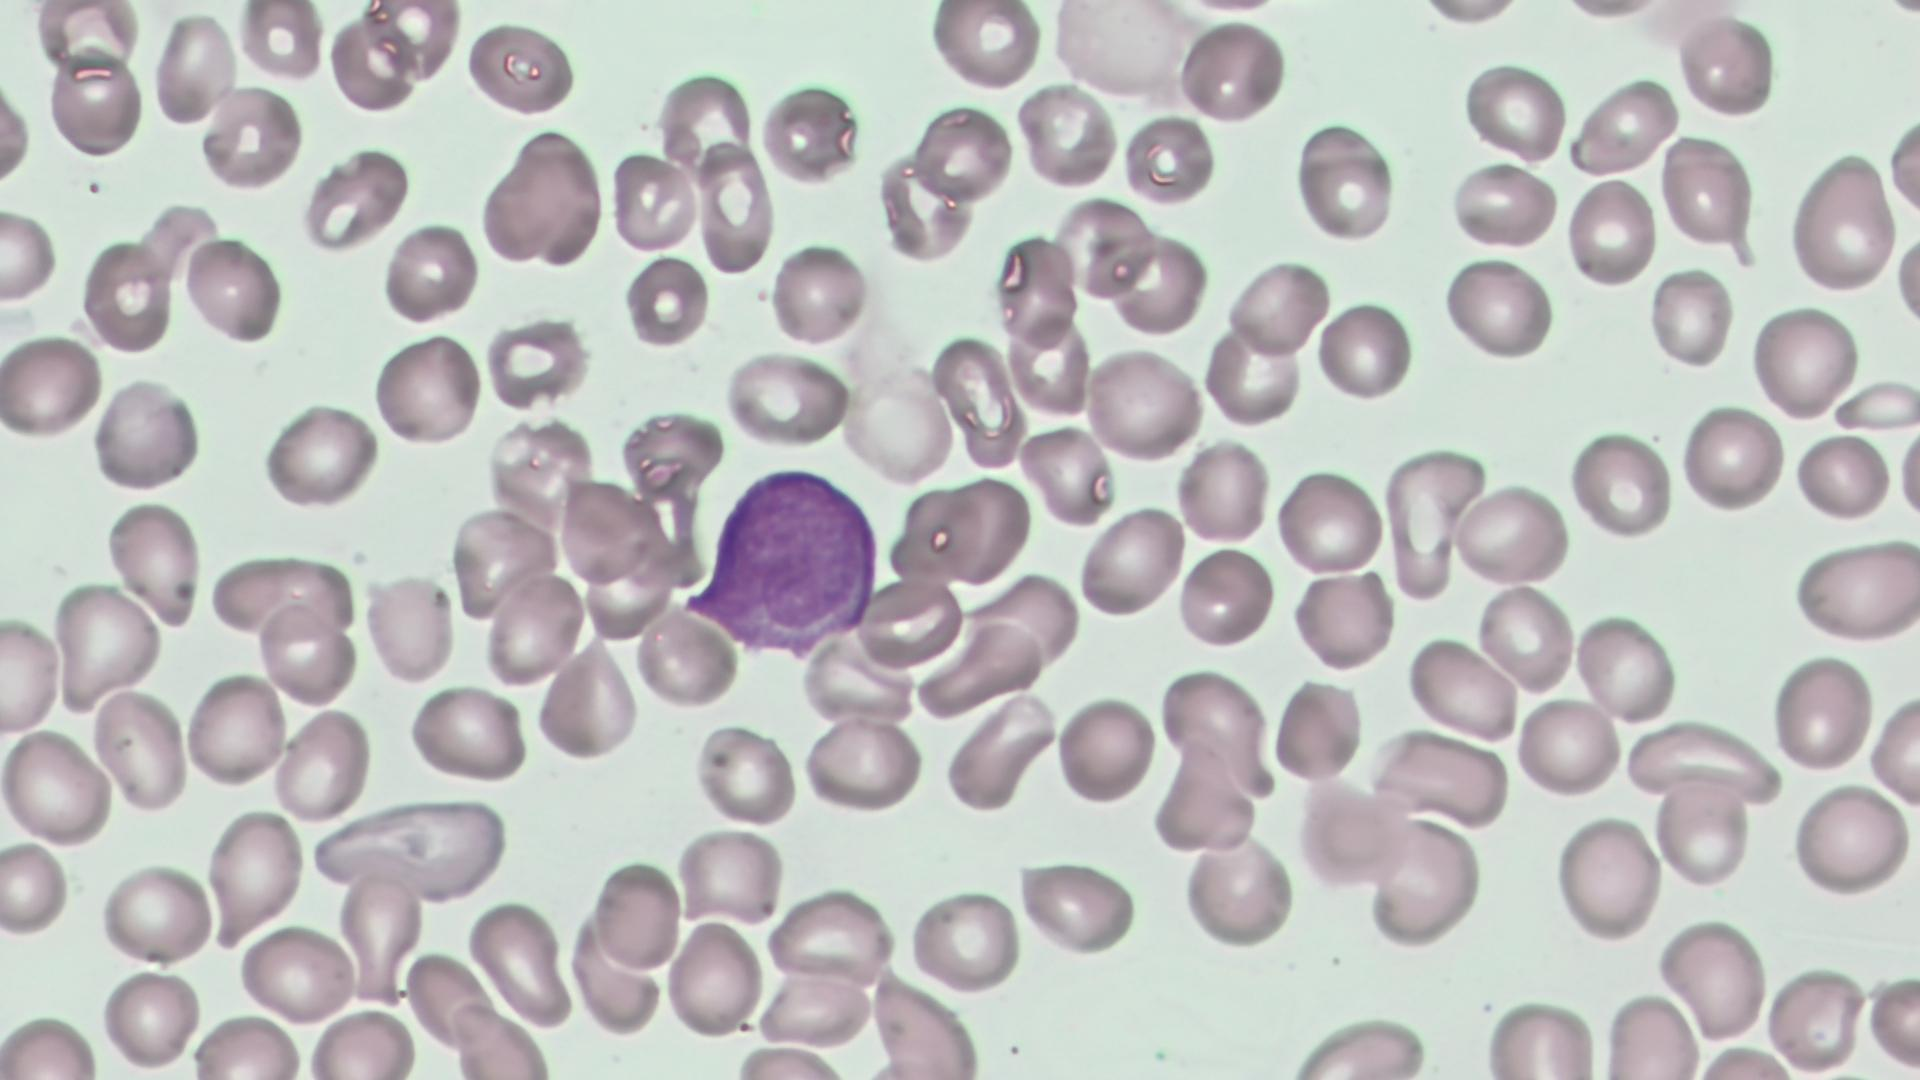RBC: (318, 796, 516, 895), (492, 128, 608, 272), (1378, 444, 1486, 597), (1365, 812, 1484, 951), (1788, 150, 1899, 298), (1654, 909, 1772, 1046), (49, 574, 165, 711), (1083, 342, 1207, 465), (1791, 530, 1920, 647), (837, 363, 957, 487), (1788, 781, 1913, 899), (1552, 814, 1664, 945), (1156, 665, 1275, 789), (944, 686, 1059, 814), (1, 723, 116, 851), (465, 898, 576, 1030), (1749, 299, 1863, 425), (930, 331, 1030, 473), (1625, 717, 1778, 810), (1149, 740, 1265, 858), (371, 328, 484, 450), (1660, 135, 1760, 272), (237, 918, 361, 1029), (405, 679, 530, 789), (204, 807, 307, 940), (1182, 829, 1295, 949), (663, 913, 767, 1042), (448, 501, 560, 621), (91, 373, 200, 496), (104, 498, 206, 630), (1440, 251, 1557, 364), (1564, 426, 1676, 545), (90, 684, 193, 814), (1770, 650, 1875, 775), (1273, 463, 1385, 580), (1452, 479, 1572, 588), (799, 713, 926, 816), (1677, 400, 1785, 520), (185, 667, 290, 790), (764, 886, 895, 984), (719, 349, 851, 447), (98, 858, 215, 968), (261, 401, 378, 510), (907, 885, 1025, 994), (1404, 630, 1518, 742), (1076, 502, 1184, 620), (534, 640, 640, 760), (1474, 578, 1578, 698), (1460, 55, 1571, 167), (1654, 766, 1753, 891), (483, 568, 587, 687), (0, 326, 104, 444), (182, 229, 286, 348), (1017, 856, 1138, 957), (1174, 16, 1286, 125), (673, 823, 789, 928), (1766, 957, 1869, 1076), (1575, 609, 1677, 728), (270, 705, 375, 822), (1054, 694, 1159, 807), (1106, 225, 1211, 340), (222, 550, 355, 640), (634, 601, 741, 712), (301, 142, 406, 255), (464, 17, 579, 120), (876, 146, 976, 264), (1291, 566, 1396, 676), (79, 236, 175, 357), (1563, 171, 1659, 291), (98, 964, 204, 1072), (200, 80, 305, 191), (46, 44, 146, 158), (1514, 695, 1622, 800), (1051, 193, 1154, 302), (767, 237, 868, 349), (756, 76, 858, 185), (1203, 320, 1305, 429), (1569, 73, 1677, 175), (694, 720, 796, 828), (1676, 11, 1778, 120), (695, 140, 777, 276), (911, 100, 1015, 206), (1316, 297, 1416, 406), (149, 11, 240, 131), (1015, 84, 1118, 190), (1225, 256, 1331, 359), (361, 570, 454, 687), (855, 574, 967, 670), (1174, 436, 1270, 549), (1447, 158, 1560, 253), (990, 229, 1080, 349), (1175, 545, 1276, 650), (257, 600, 357, 705), (928, 3, 1044, 94), (1270, 674, 1364, 786), (938, 473, 1030, 587), (382, 218, 479, 326), (592, 857, 682, 973), (756, 968, 880, 1051), (1482, 992, 1602, 1077), (483, 315, 589, 411), (608, 145, 702, 255), (1005, 307, 1095, 419), (1295, 144, 1396, 243), (1019, 422, 1116, 526), (1646, 262, 1735, 371), (1793, 429, 1894, 524), (322, 15, 415, 113), (1600, 988, 1702, 1077), (1120, 113, 1217, 207), (622, 251, 711, 353), (305, 1004, 423, 1077), (0, 611, 65, 738), (364, 0, 462, 83), (189, 1011, 309, 1079), (237, 3, 324, 84), (0, 837, 69, 938), (0, 204, 59, 305), (1869, 690, 1917, 808), (1863, 968, 1920, 1069), (1836, 376, 1917, 435), (1884, 104, 1920, 224), (1414, 0, 1527, 28), (1894, 415, 1920, 531)
WBC: (688, 464, 891, 659)
